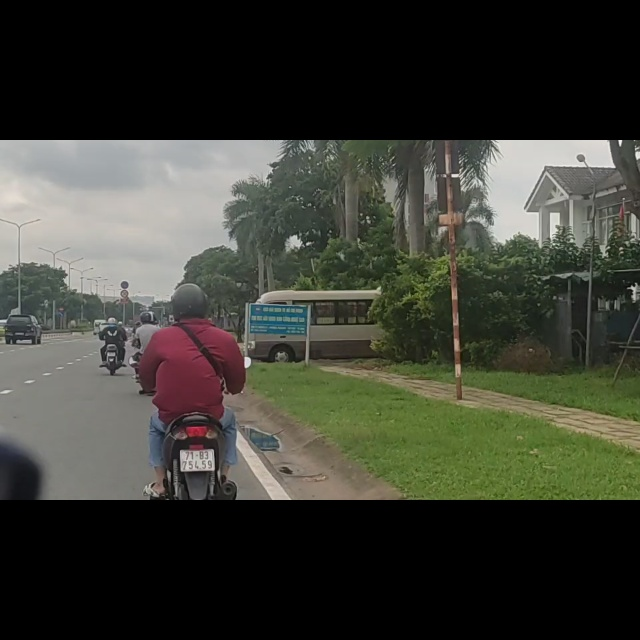bien_hieu_lenh: (121, 250, 129, 264), (58, 295, 65, 306), (57, 306, 65, 315)
